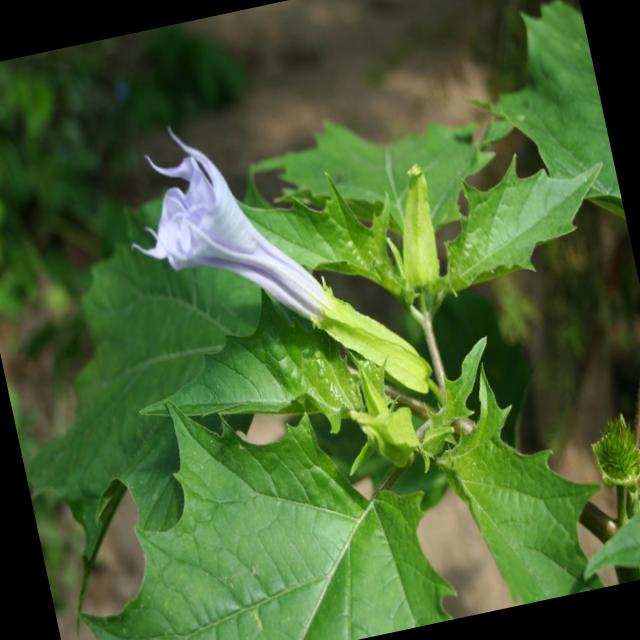Poisonous-Datura_Stramonium: (119, 78, 583, 640), (482, 53, 640, 313), (570, 399, 640, 586)
